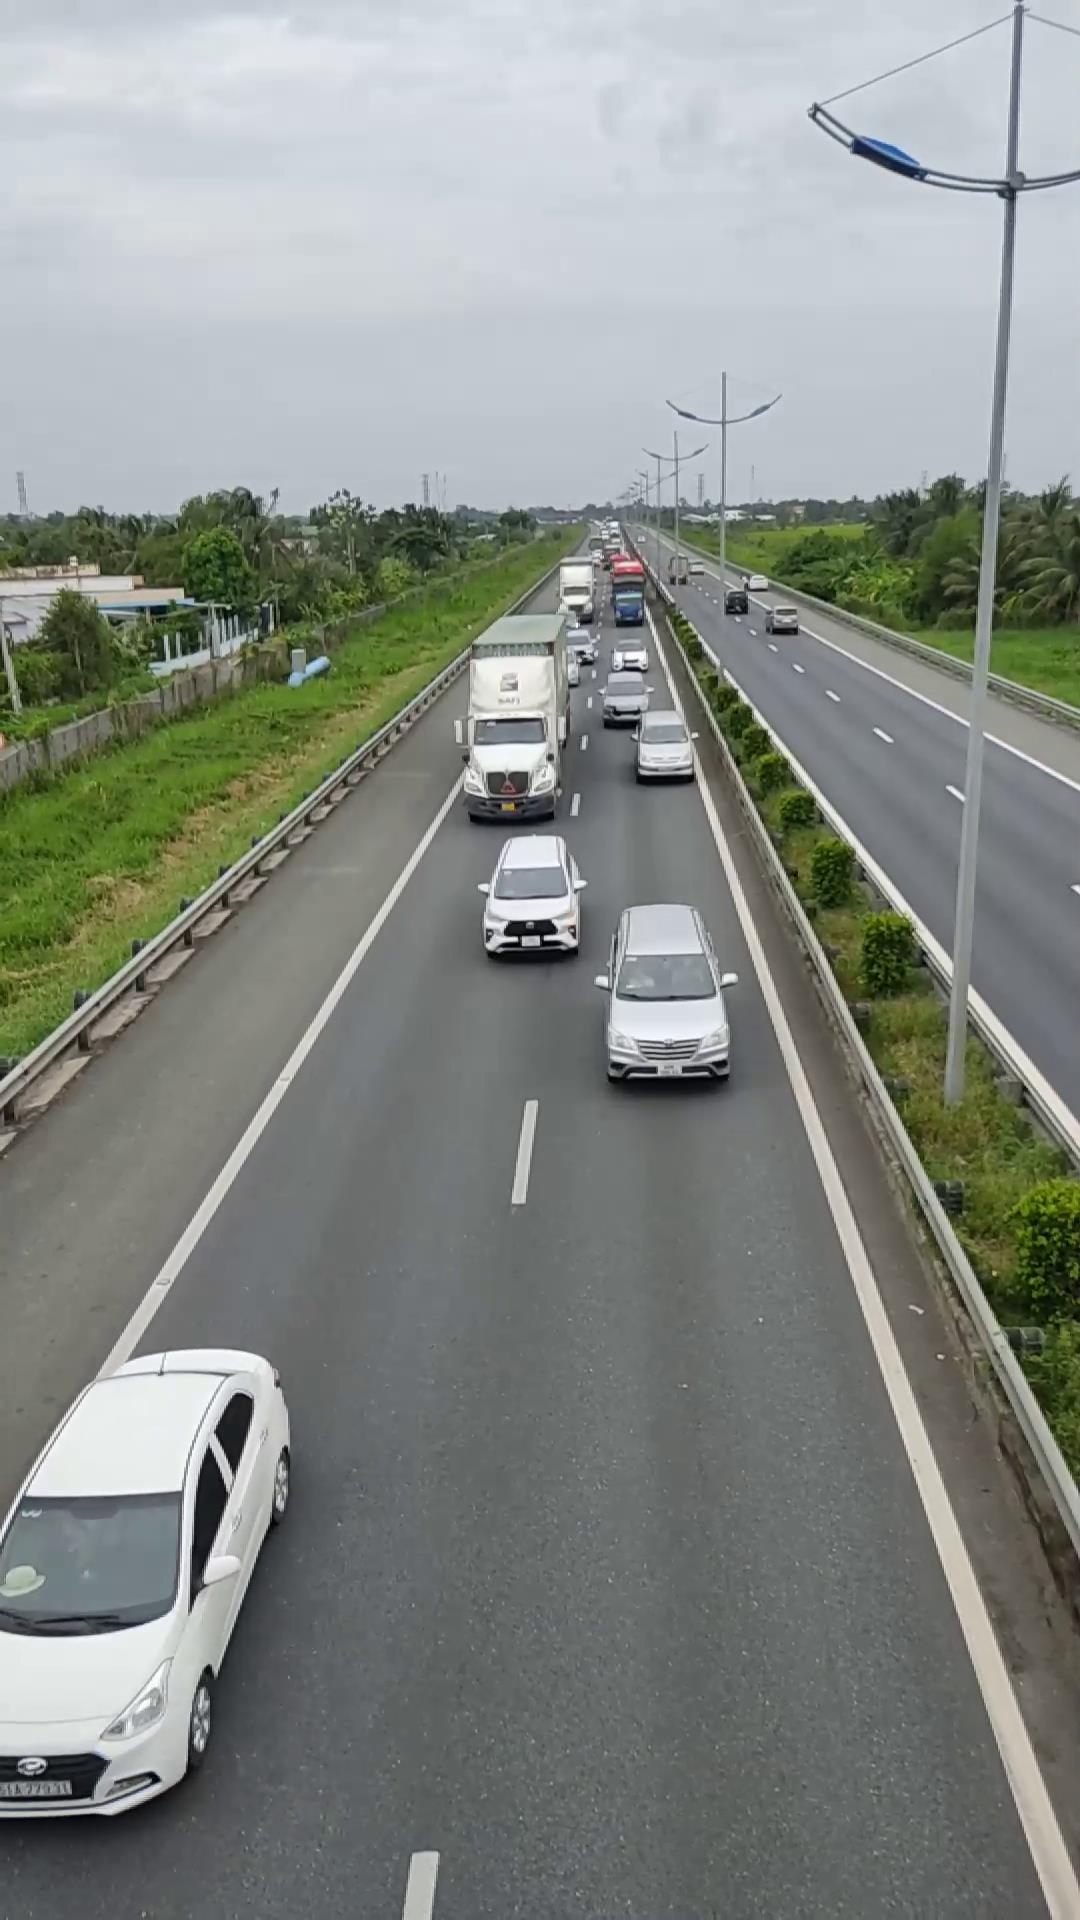car: (0, 1345, 297, 1820), (599, 902, 732, 1085), (477, 831, 587, 959), (633, 709, 700, 782)
container: (458, 608, 574, 822)
